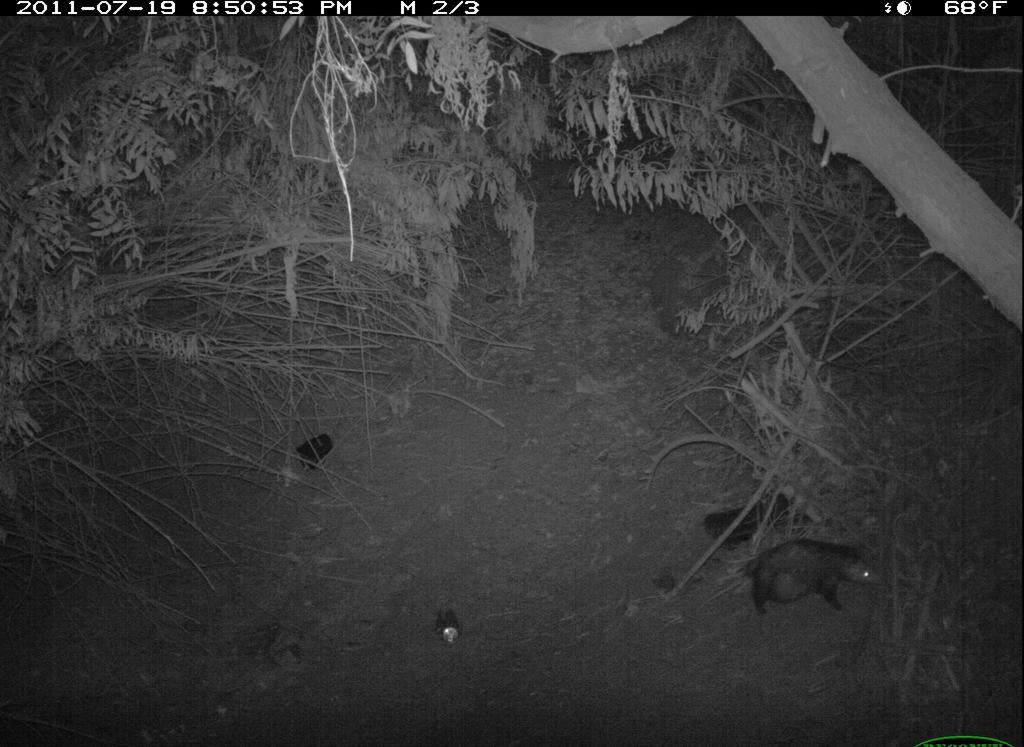opossum: (716, 530, 900, 625)
